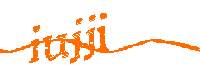i: (96, 9, 111, 54), (30, 23, 40, 64)
j: (69, 15, 85, 64), (83, 13, 99, 62)
u: (42, 33, 70, 62)
